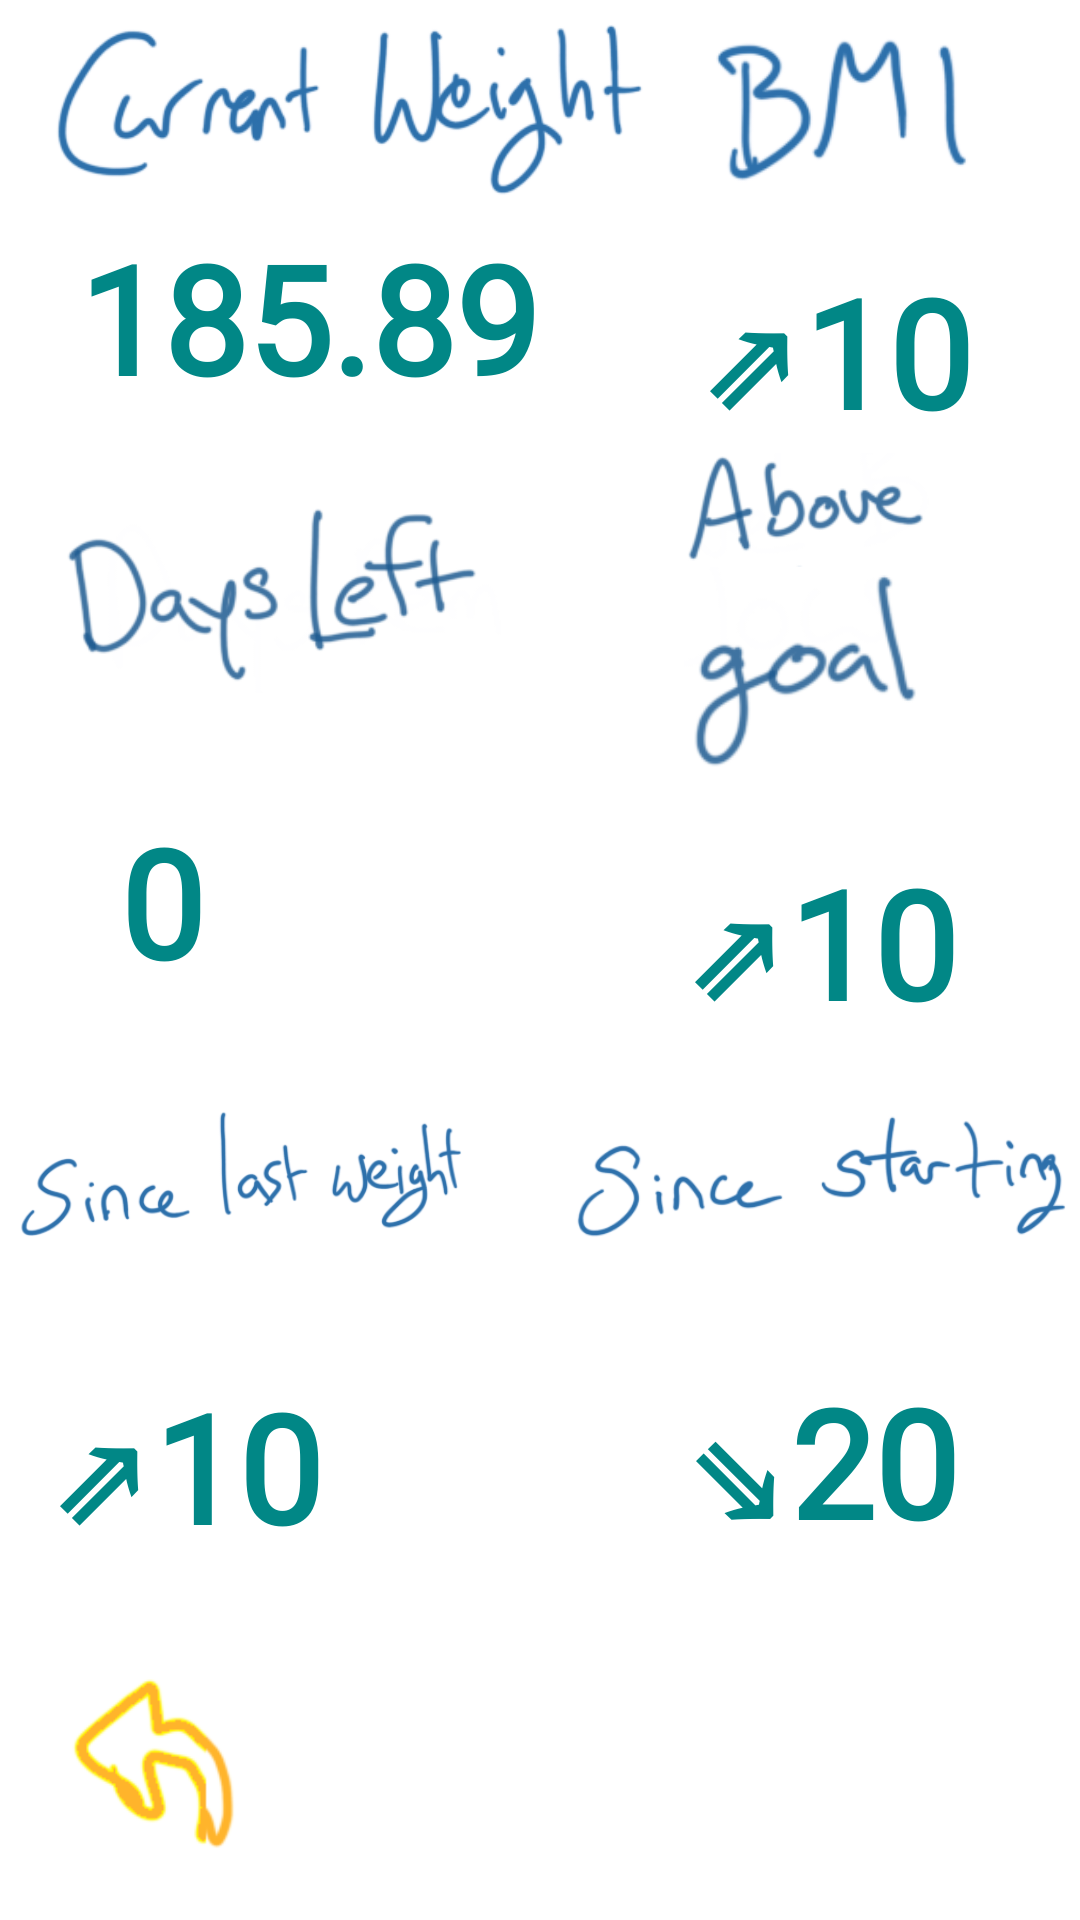

Screen size 1080*1920. Icon name, then its box in pixels as (left=x1, top=y1, right=x2, bottom=y2):
go back: (left=74, top=1679, right=234, bottom=1848)
